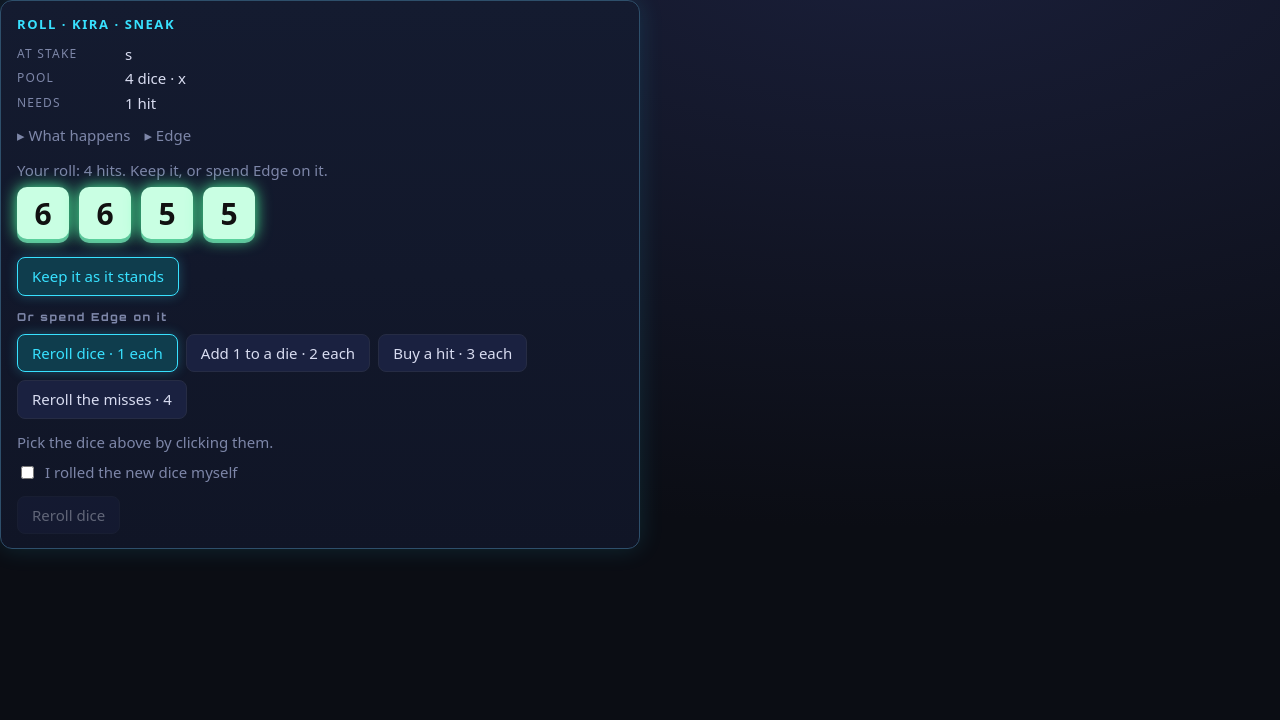
it: a roll that is held › will not reroll the misses when every die is a hit
This screenshot has width=1280, height=720.
Click the radio button labelled "Reroll the misses · 4". click: (102, 399)
box: [17,380,187,418]
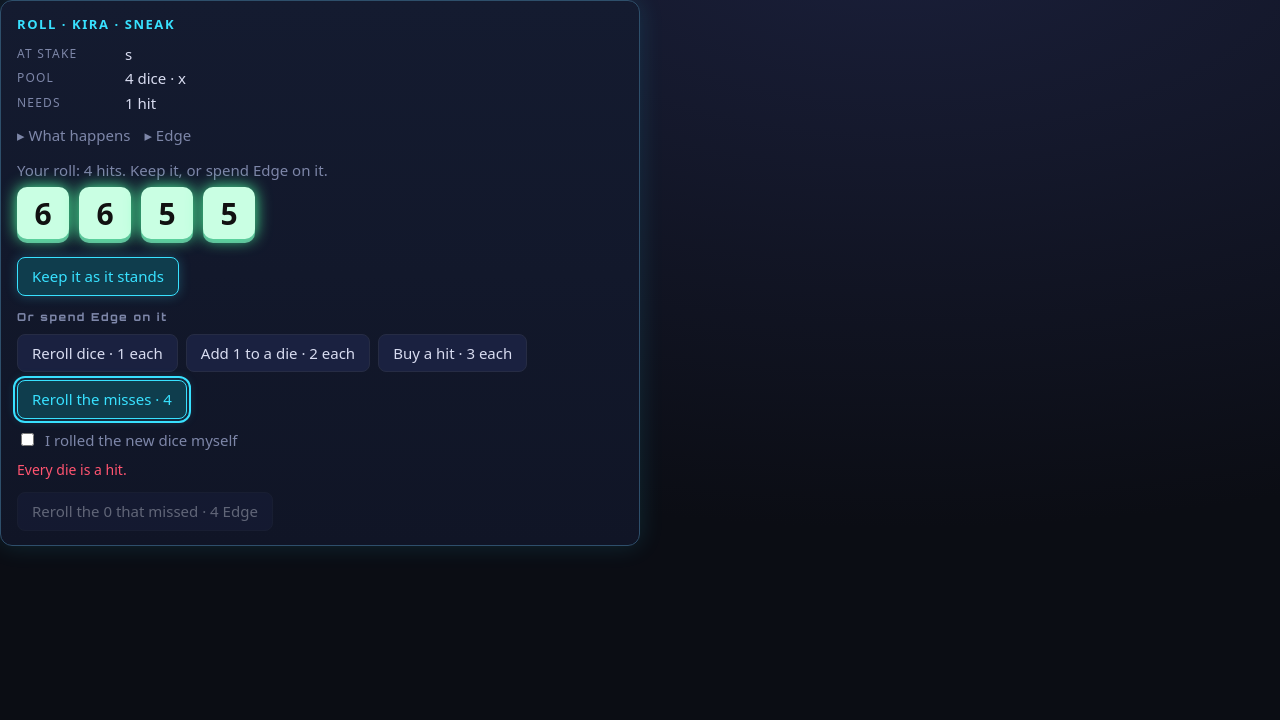
Now the message reads "Every die is a hit.", box [17,460,127,479]
